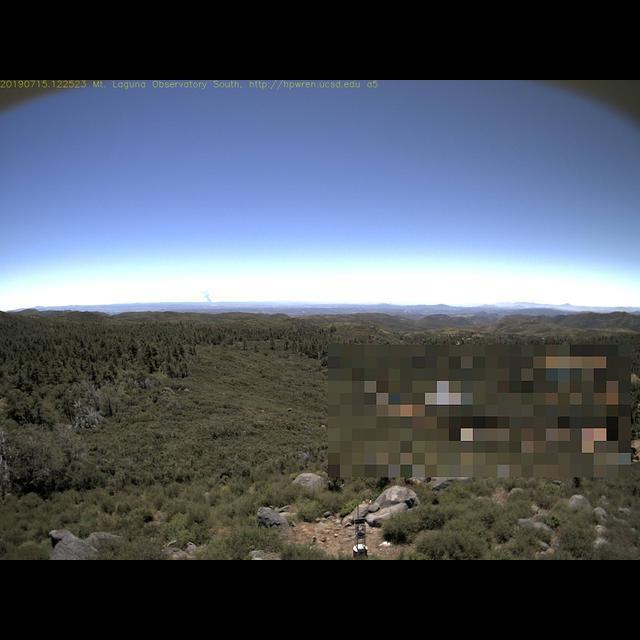Smoke: (198, 286, 217, 311)
